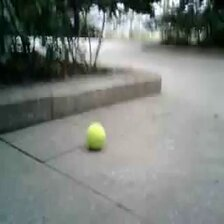tennis: (86, 123, 105, 148)
